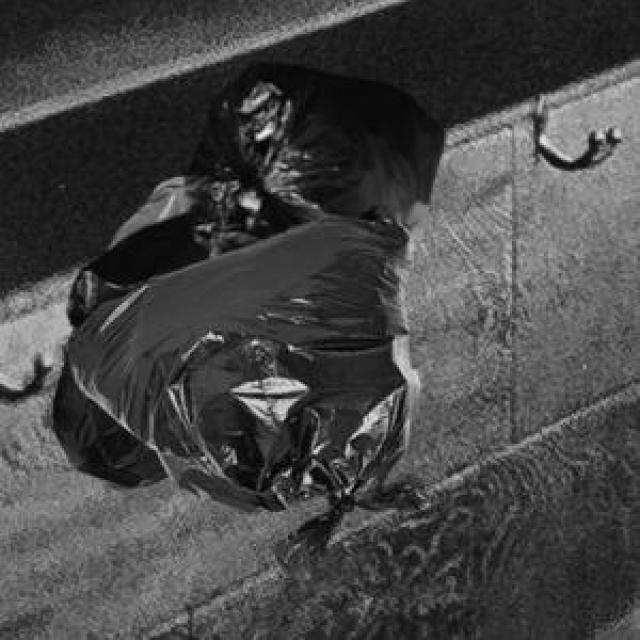miscellaneous trash: (64, 201, 425, 576), (64, 60, 440, 324), (49, 173, 181, 486)
